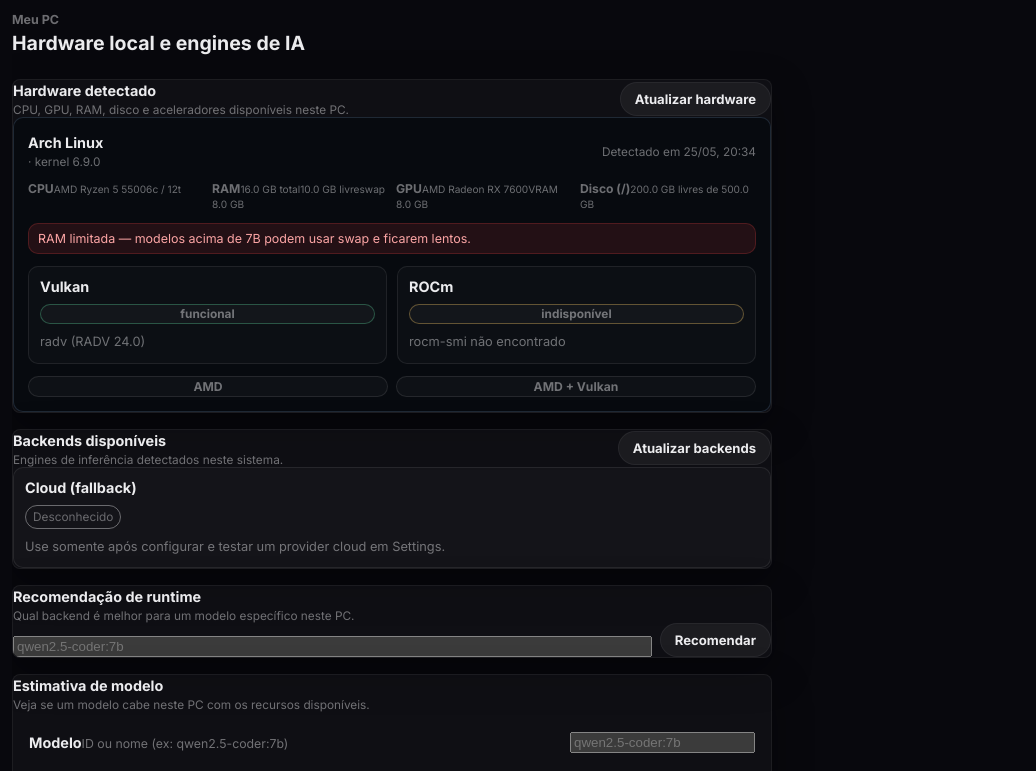
Test: LocalEnginePage › não apresenta fallback cloud sem teste real como pronto
The width and height of the screenshot is (1036, 771).
Expected: the text "AMD Ryzen 5 5500" is shown, [54,183,146,195]
In the field named "ID do modelo para recomendar": (332, 647) [13,636,652,657], type "modelo-grande:70b"
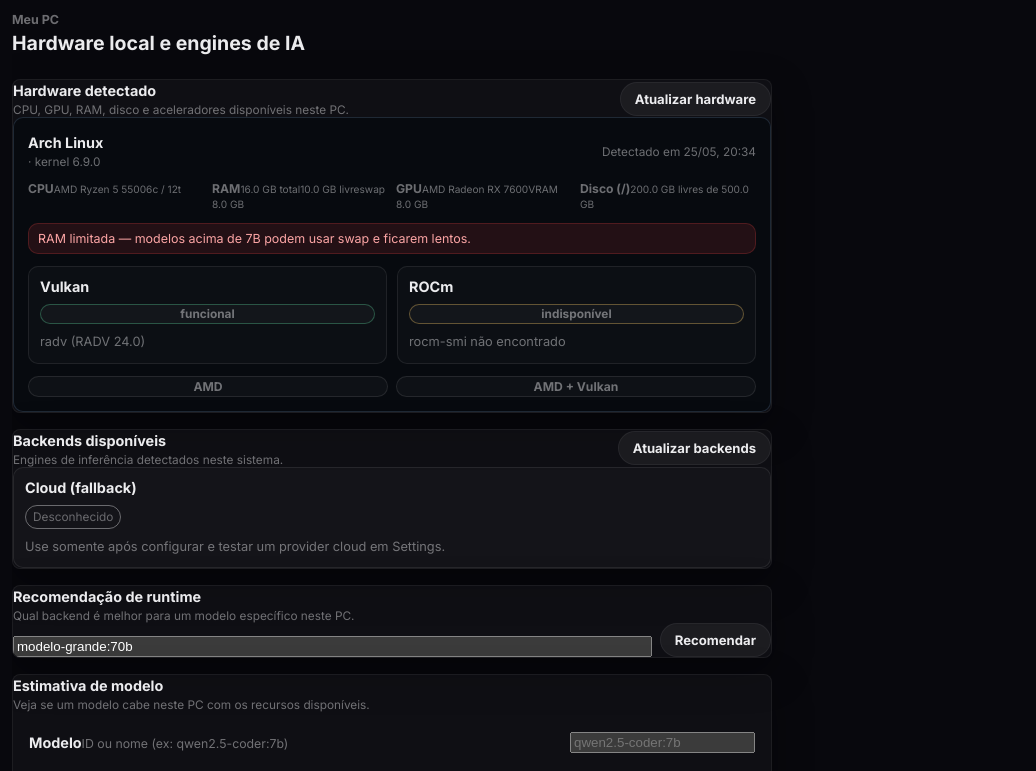
Click the button "Recomendar": (715, 640) [660,623,771,657]
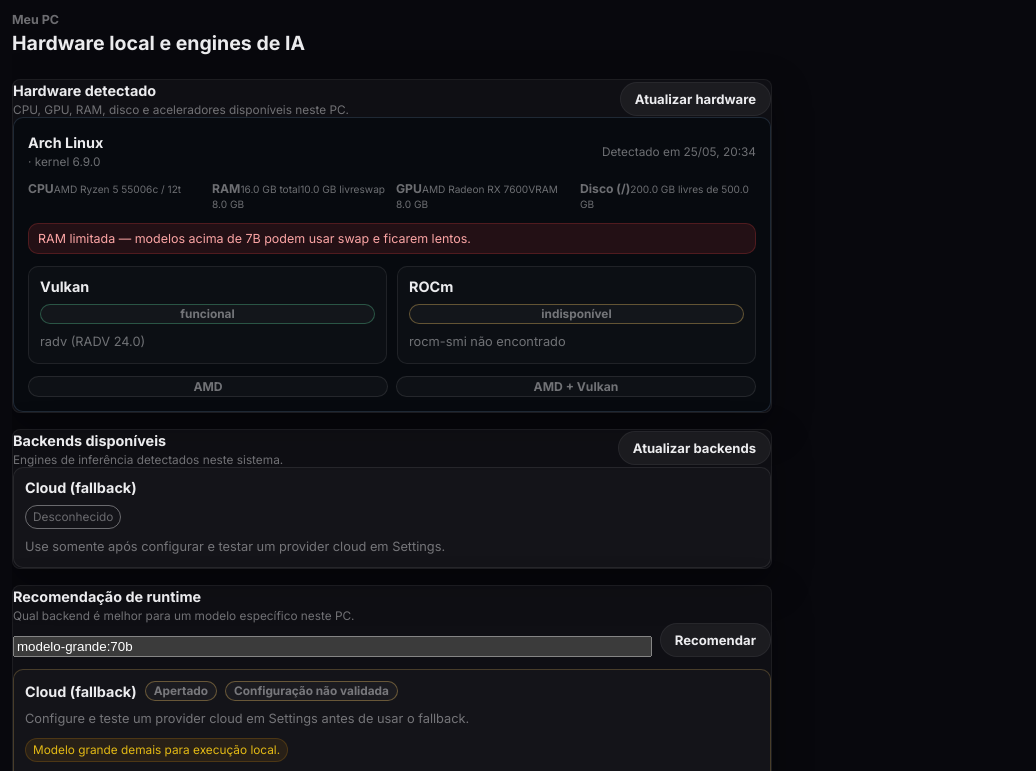
Expected: the text "Configuração não validada" is shown, [225,681,398,701]
